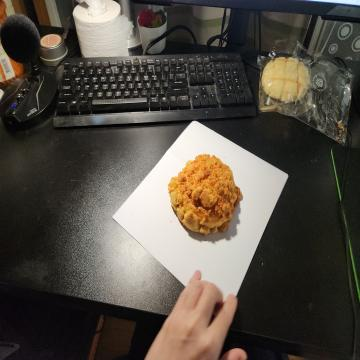soboru_bread: (168, 153, 243, 238)
